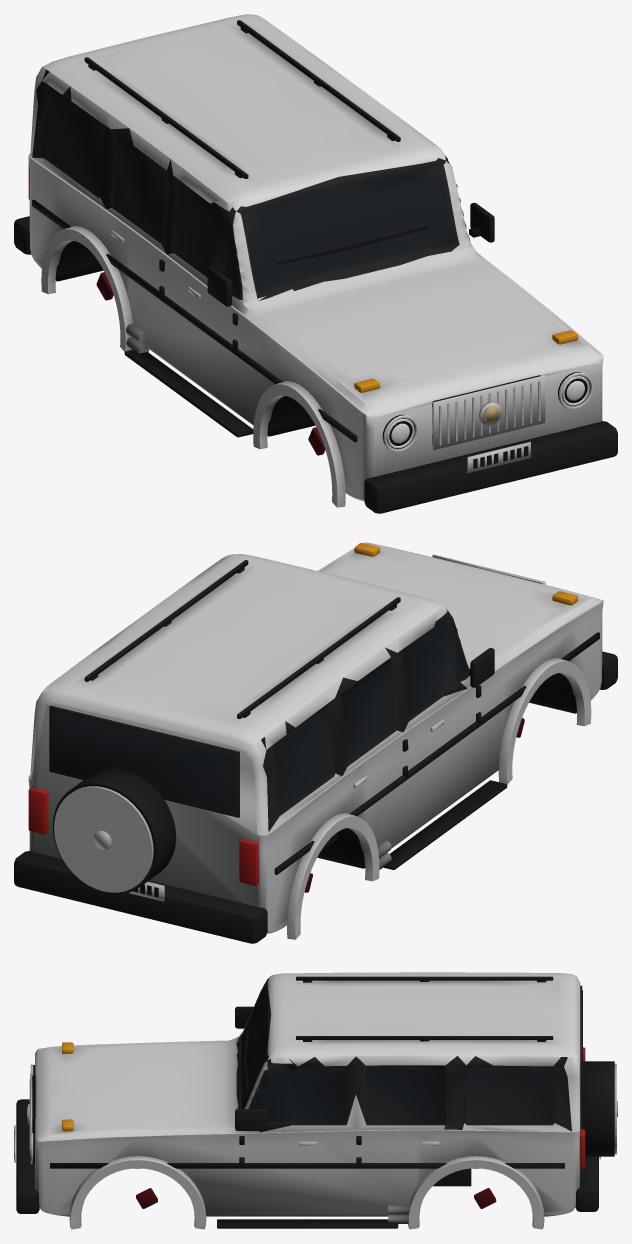
File: gajraj_lod1.glb
3 renders of one model, top to bottom at view 1: azimuth 30°, elevation 25°; view 2: azimuth 150°, elevation 25°; view 3: azimuth 270°, elevation 25°, orthographic. The views are drawn at different scales.
Visible parts, largest first — view 1: gajraj.001; view 2: gajraj.001; view 3: gajraj.001.
Part boxes in pixels (x1,y1,x2,y2): gajraj.001: (14,14,617,513); gajraj.001: (14,542,617,943); gajraj.001: (14,972,617,1229).
Size of the model in its own units: 2.13 by 1.64 by 5.16.
